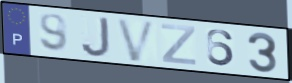3: (246, 31, 279, 74)
6: (205, 28, 237, 68)
9: (37, 12, 69, 54)
J: (79, 16, 112, 59)
V: (115, 17, 159, 64)
Z: (159, 22, 198, 67)
